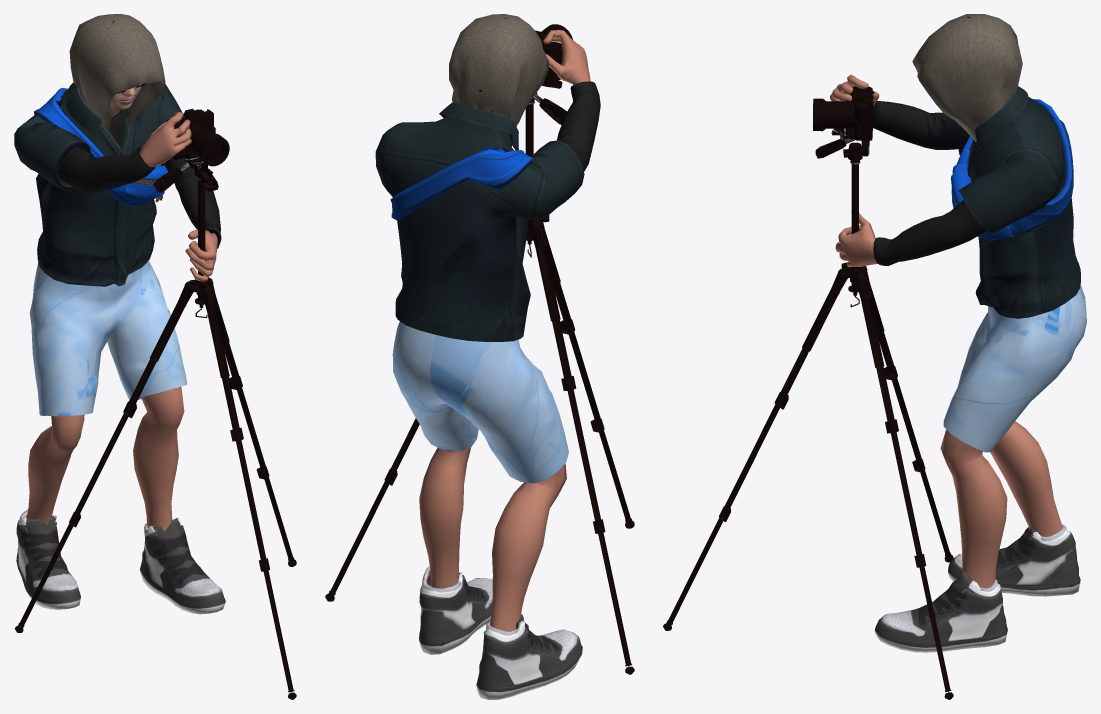
3 renders of one model, left to right at view 1: azimuth 30°, elevation 25°; view 2: azimuth 150°, elevation 25°; view 3: azimuth 270°, elevation 25°, orthographic. The views are drawn at different scales.
Visible parts, largest first — view 1: Outfit_Top, Pants, Tripod, Outfit_Footwear, Legs, Headwear, Body, Camera, head; view 2: Outfit_Top, Pants, Legs, Outfit_Footwear, Tripod, Headwear, Body, Camera; view 3: Outfit_Top, Pants, Outfit_Footwear, Legs, Tripod, Headwear, Camera, Body.
Part boxes in pixels (x1,y1,x2,y2): Outfit_Top: (14,82,221,286); Pants: (29,260,187,416); Tripod: (15,152,296,699); Outfit_Footwear: (16,509,225,614); Legs: (26,387,184,531); Headwear: (69,14,165,131); Body: (139,111,217,281); Camera: (166,108,229,166); head: (110,20,141,116); Outfit_Top: (375,81,600,341); Pants: (392,321,568,483); Legs: (419,447,566,631); Outfit_Footwear: (419,566,582,699); Tripod: (325,80,634,674); Headwear: (449,14,548,126); Body: (543,30,590,84); Camera: (535,24,572,84); Outfit_Top: (873,86,1080,318); Pants: (943,285,1086,452); Outfit_Footwear: (874,524,1080,652); Legs: (940,421,1062,587); Tripod: (663,128,953,699); Headwear: (912,14,1022,141); Camera: (813,86,874,140); Body: (830,74,879,267).
Bounding box in the file's own units: 0.8992 × 1.77 × 1.14.
Materials: 20 (6 with a texture image).
